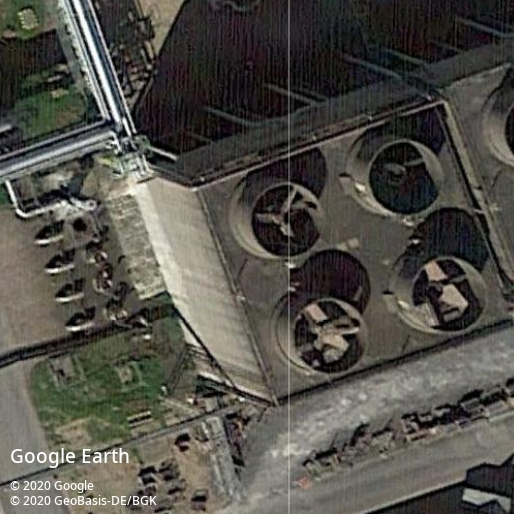Vent: (366, 139, 445, 218), (410, 256, 488, 336), (250, 181, 326, 260), (292, 297, 368, 376)
